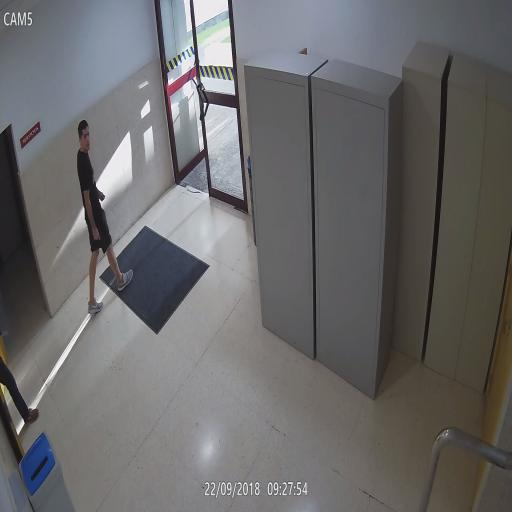Handgun: (93, 227, 105, 251)
